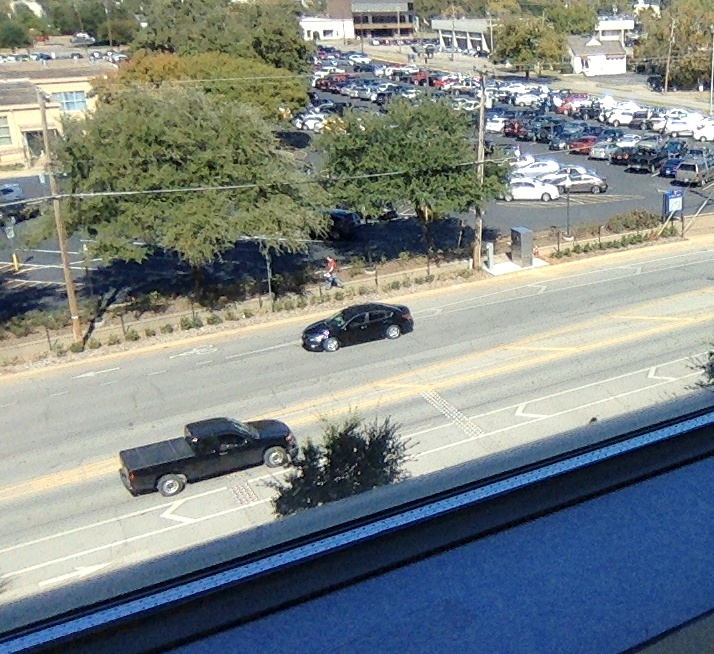car: (300, 300, 414, 354)
